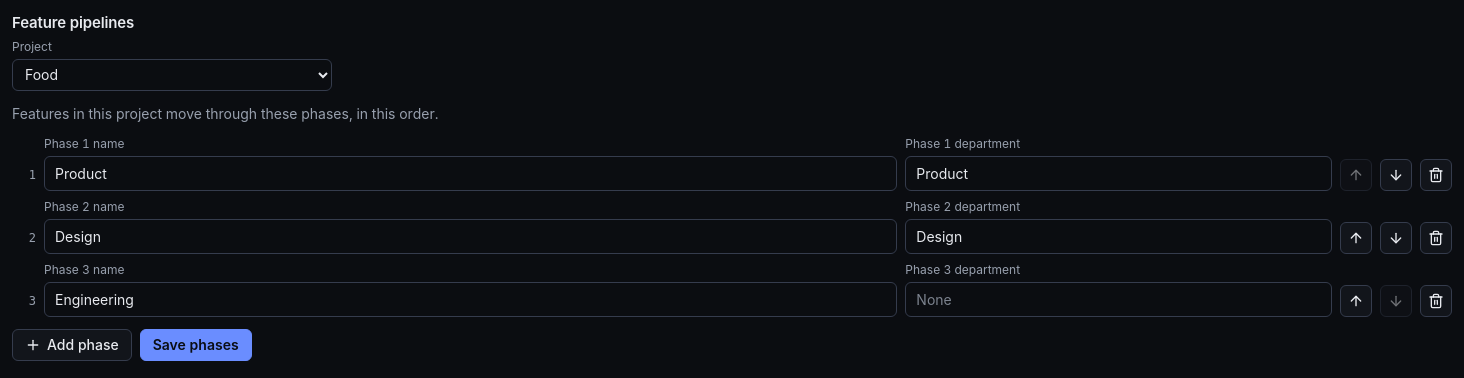
Scenario: PipelineSettings › keeps the first move disabled at the ends and will not save a blank name
The width and height of the screenshot is (1464, 378).
Expected: the field labelled "Phase 1 name" is shown, [44,156,897,190]
Expected: the button named "Move Product up" is disabled, [1340,158,1372,190]
Clear the field labelled "Phase 2 name": (471, 236) [44,218,897,254]
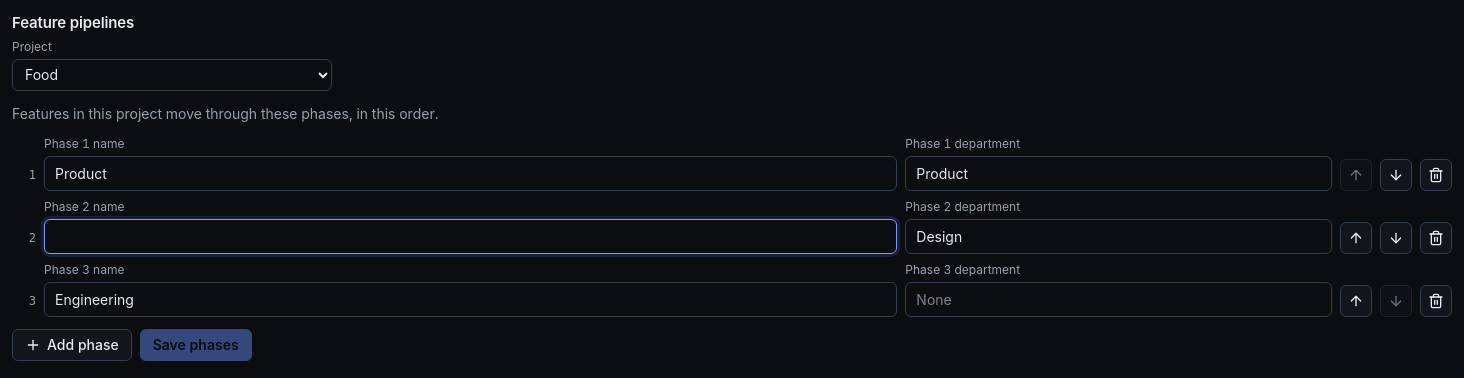
Expected: the button "Save phases" is disabled, [140,328,252,360]
